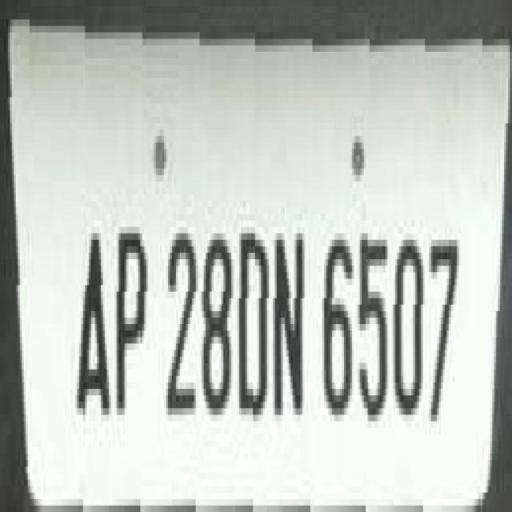number plate: (22, 39, 510, 486)
